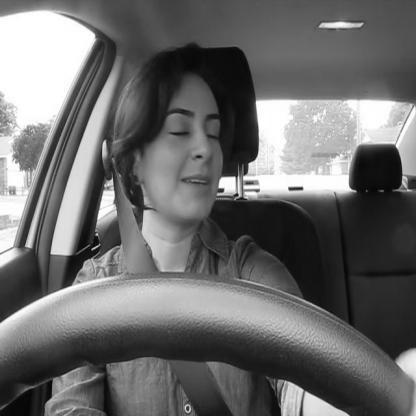seatbelt: (102, 40, 250, 416)
